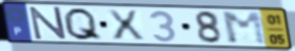3: (148, 9, 178, 44)
8: (195, 10, 224, 45)
M: (219, 11, 270, 46)
N: (27, 6, 69, 41)
Q: (61, 7, 105, 42)
X: (104, 9, 147, 41)
